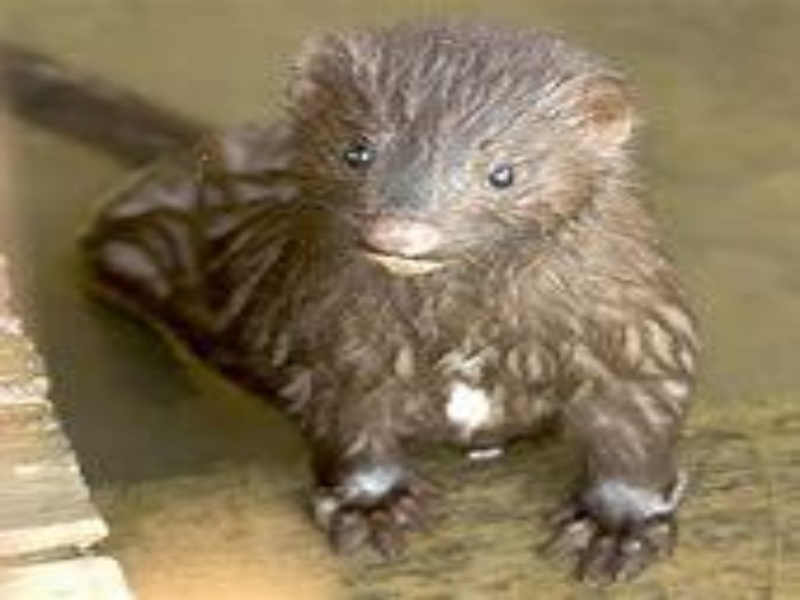minkish: (1, 20, 706, 578)
